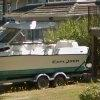Boat: (2, 32, 88, 91)
